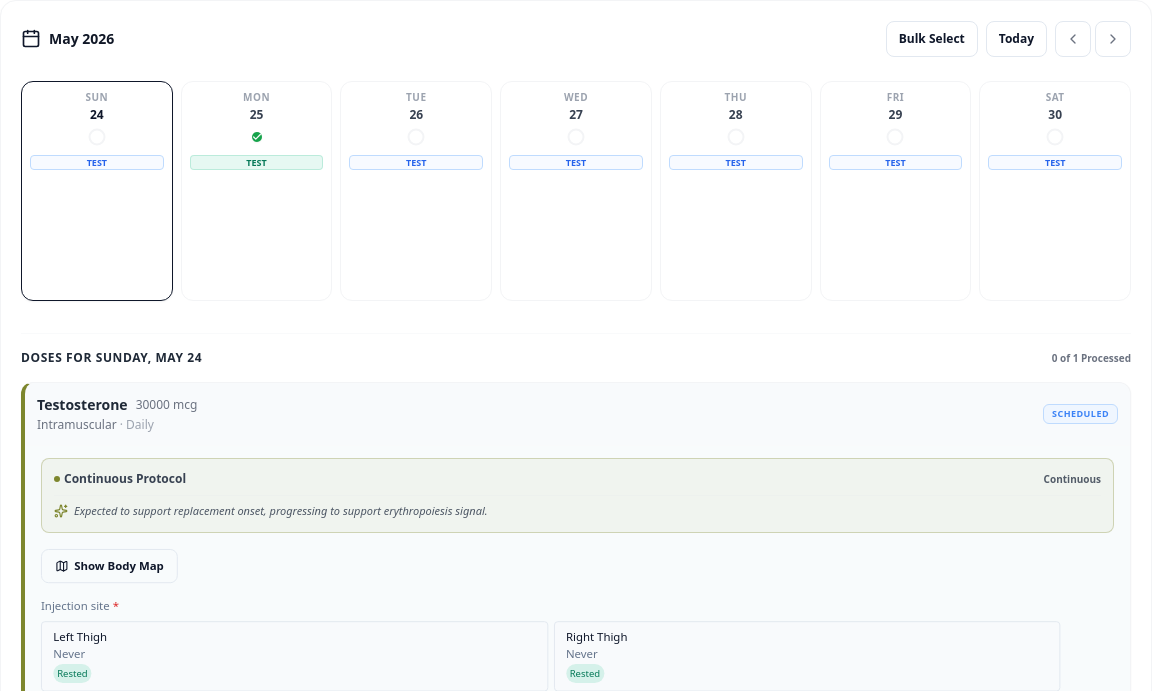
Test: TrackerCalendar Component UI/UX with JSDOM › renders expected benefits milestones for logged continuous protocols
Click the button with aria-label "May 25". click: (257, 191)
box: top-left (181, 81), bottom-right (332, 301)
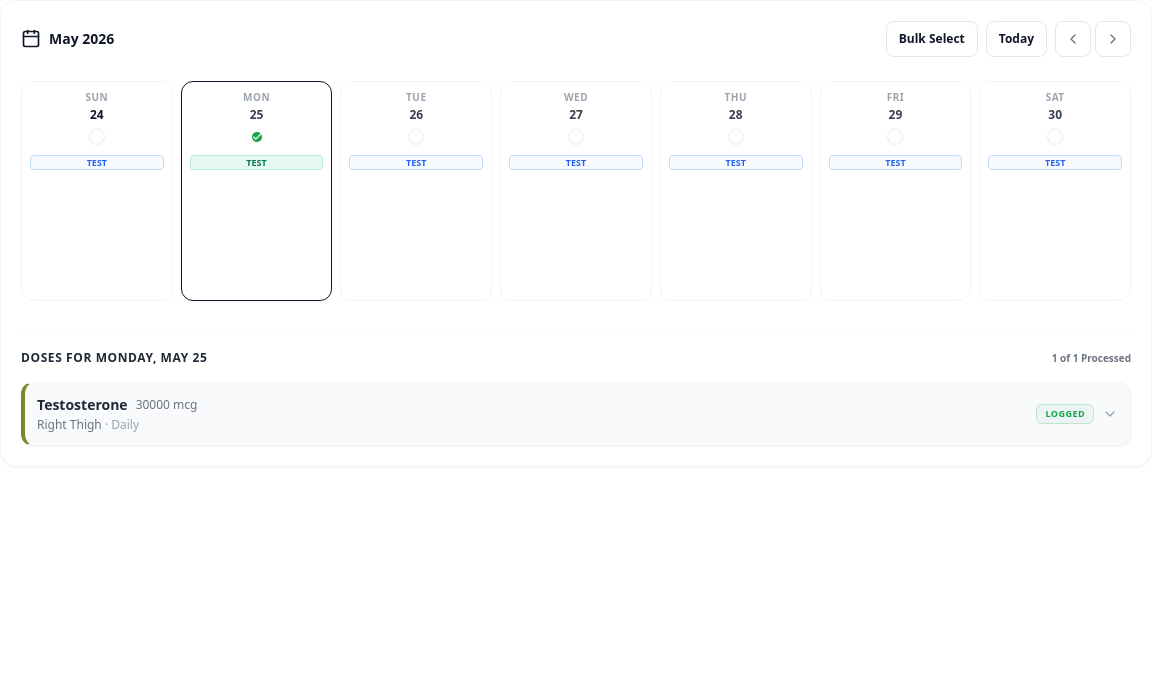
Click the button "Testosterone 30000 mcg Right Thigh · Daily LOGGED". click: (82, 404)
box: top-left (25, 383), bottom-right (1130, 445)
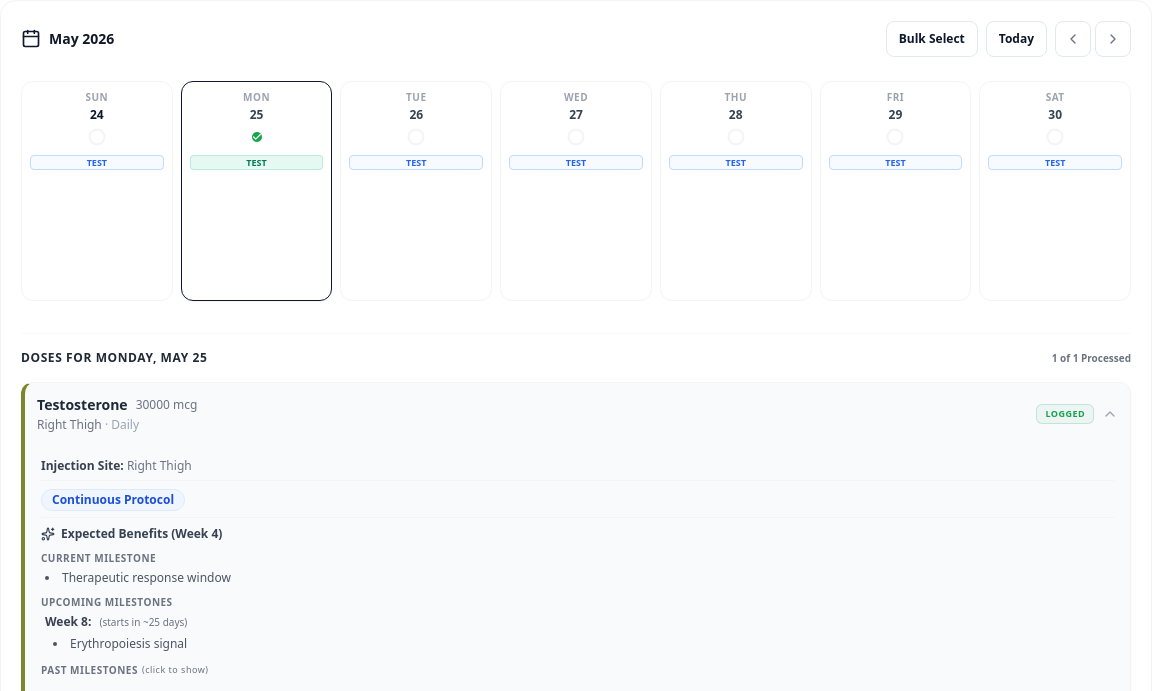
Expected: the text "Continuous Protocol" is shown, top-left (41, 489), bottom-right (185, 511)
Expected: the text "Expected Benefits (Week 4)" is shown, top-left (61, 526), bottom-right (222, 542)
Expected: the list item "Therapeutic response window" is shown, top-left (62, 569), bottom-right (231, 586)
